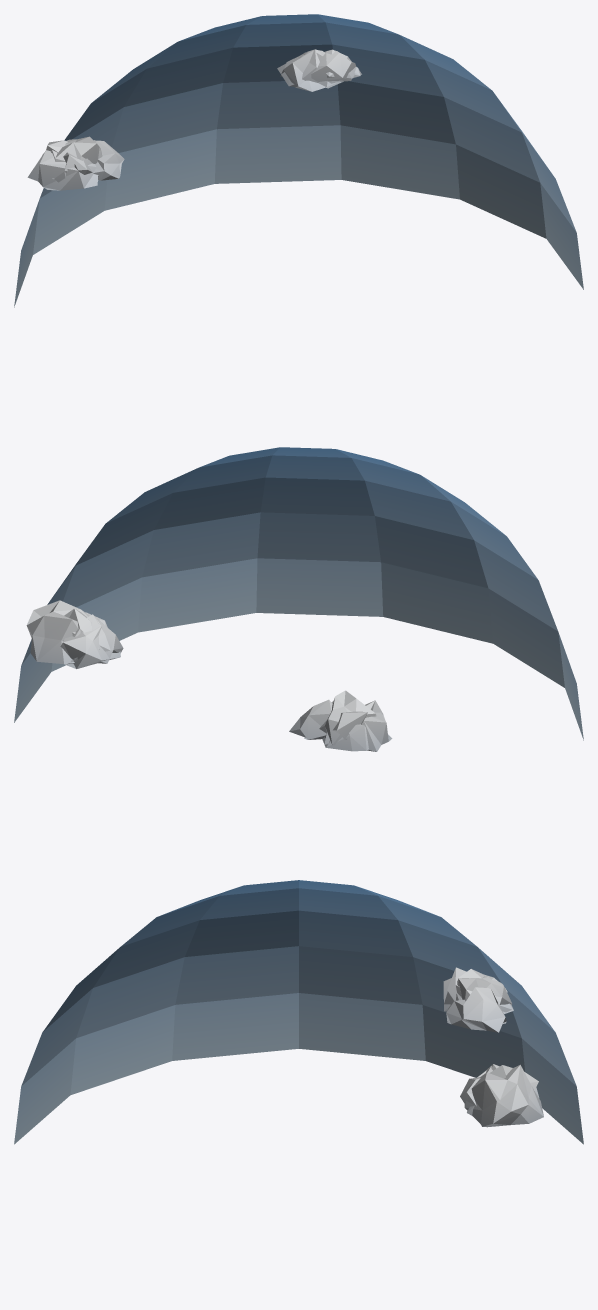
The model's file is sky-day-dome-01.glb.
The picture shows the model from 3 angles, top to bottom: view 1: azimuth 30°, elevation 25°; view 2: azimuth 150°, elevation 25°; view 3: azimuth 270°, elevation 25°; orthographic projection. The views are drawn at different scales.
Visible parts, largest first — view 1: sky_day_dome_01; view 2: sky_day_dome_01; view 3: sky_day_dome_01.
Boxes of the visible parts, bbox=[...] form: sky_day_dome_01: bbox=[14, 14, 583, 307]; sky_day_dome_01: bbox=[14, 447, 583, 751]; sky_day_dome_01: bbox=[14, 880, 583, 1144].
Bounding box in the file's own units: 5.2 × 2.6 × 5.07.
